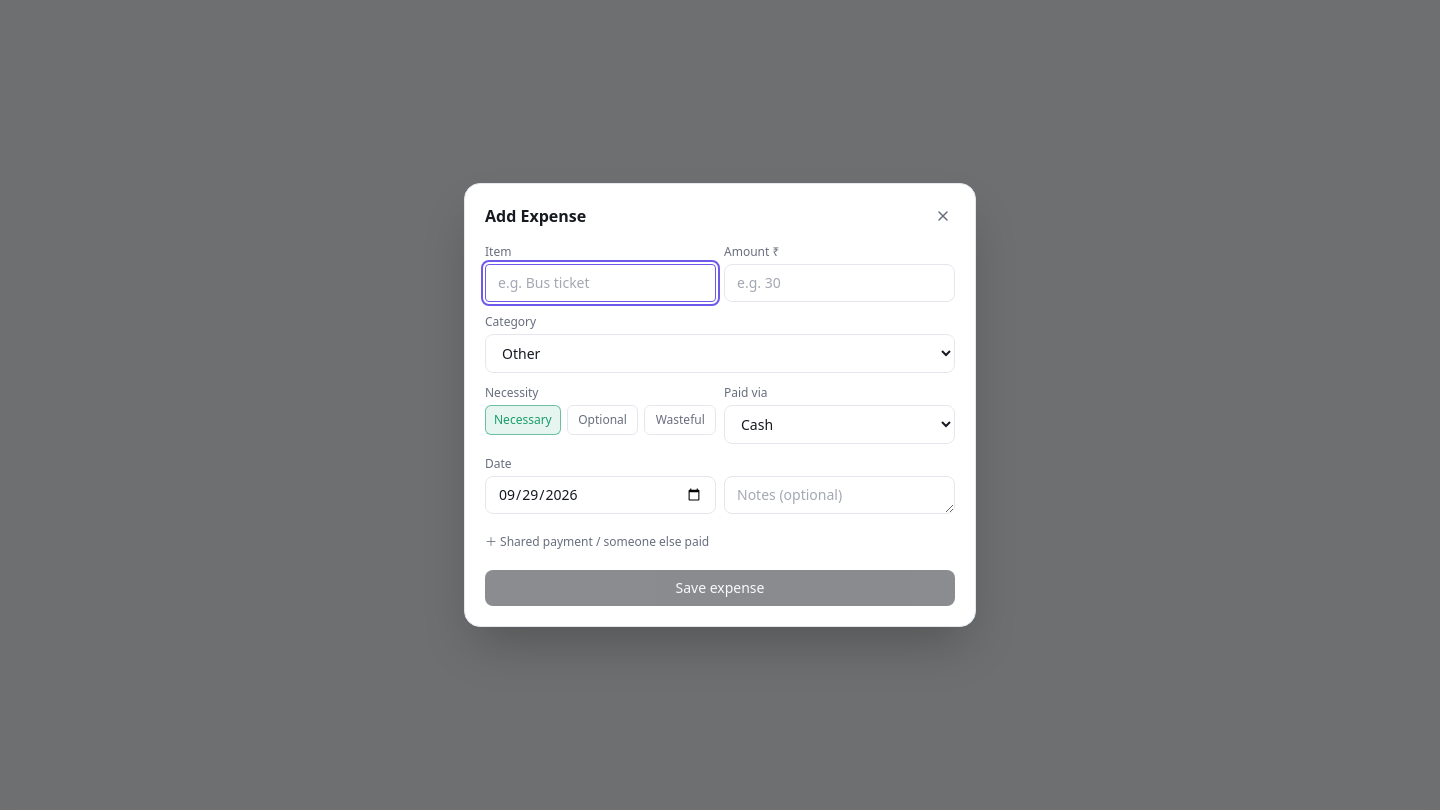
Scenario: arrangement previews › Someone else: live "You owe" preview once a payer is typed
Type "Dinner" into the field labelled "Item".
click(600, 283); type("Dinner")  # box [485,264,716,302]
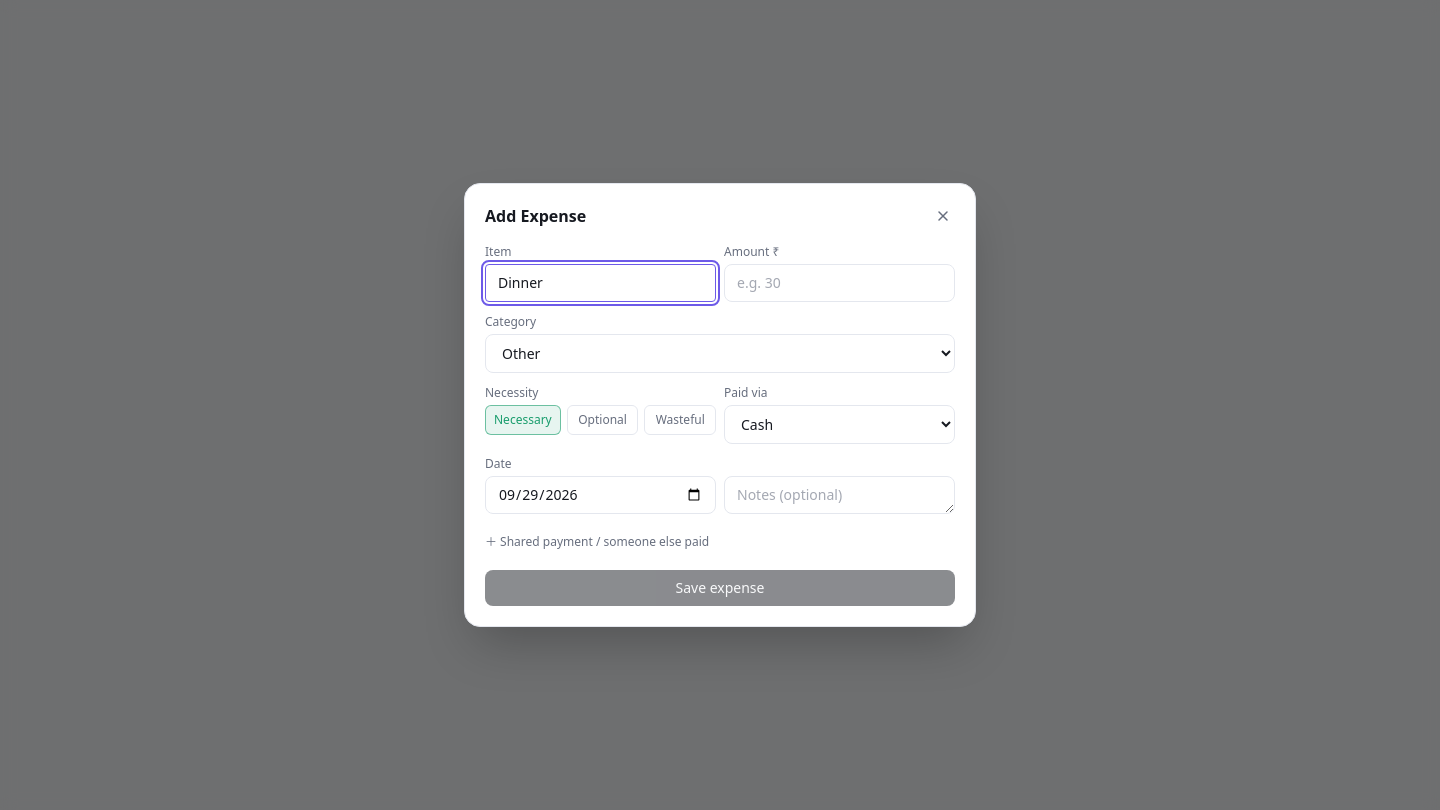
Type "500" into the field labelled "Amount ₹".
click(840, 283); type("500")  # box [724,264,955,302]
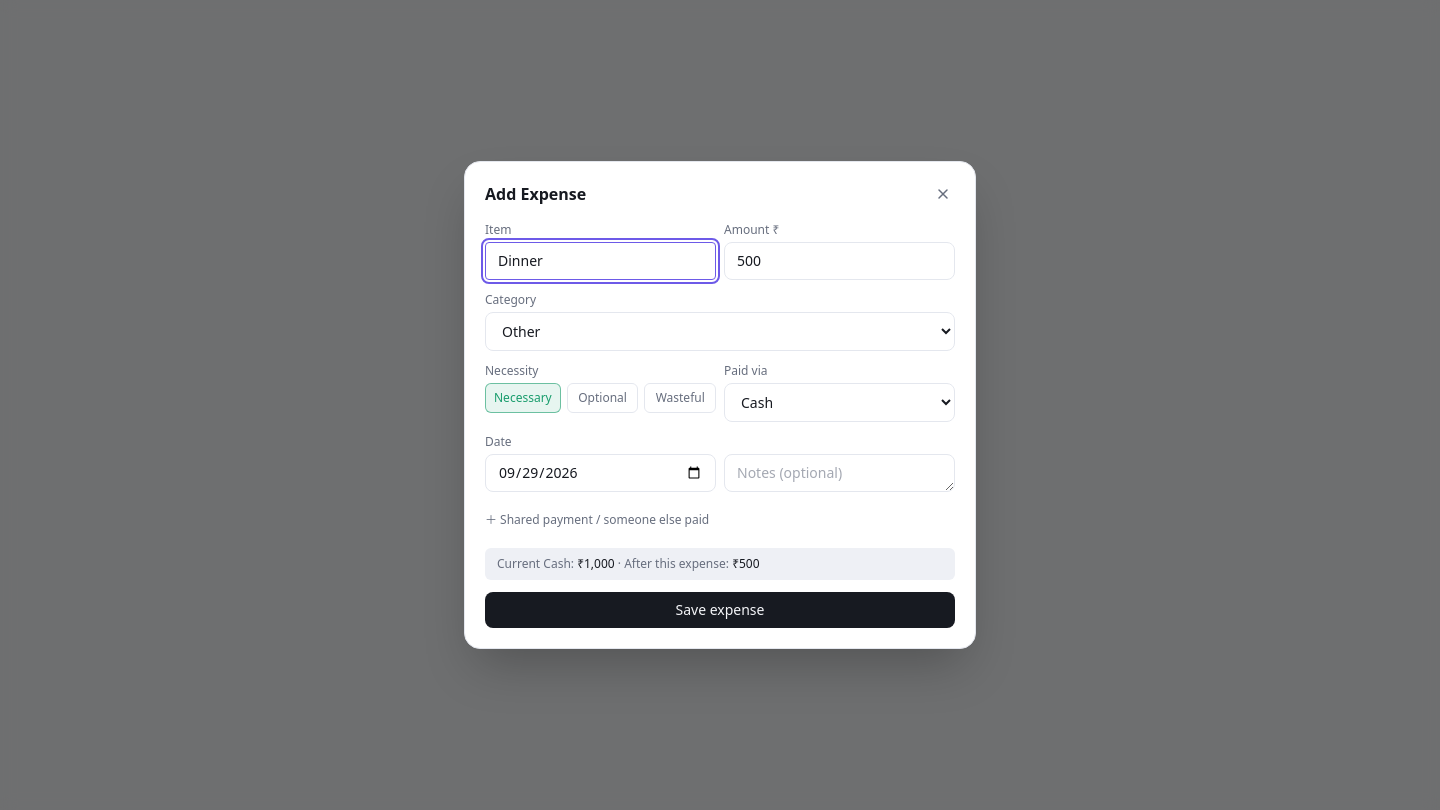
Click the button "＋ Shared payment / someone else paid".
click(597, 520)  # box [485,504,709,536]
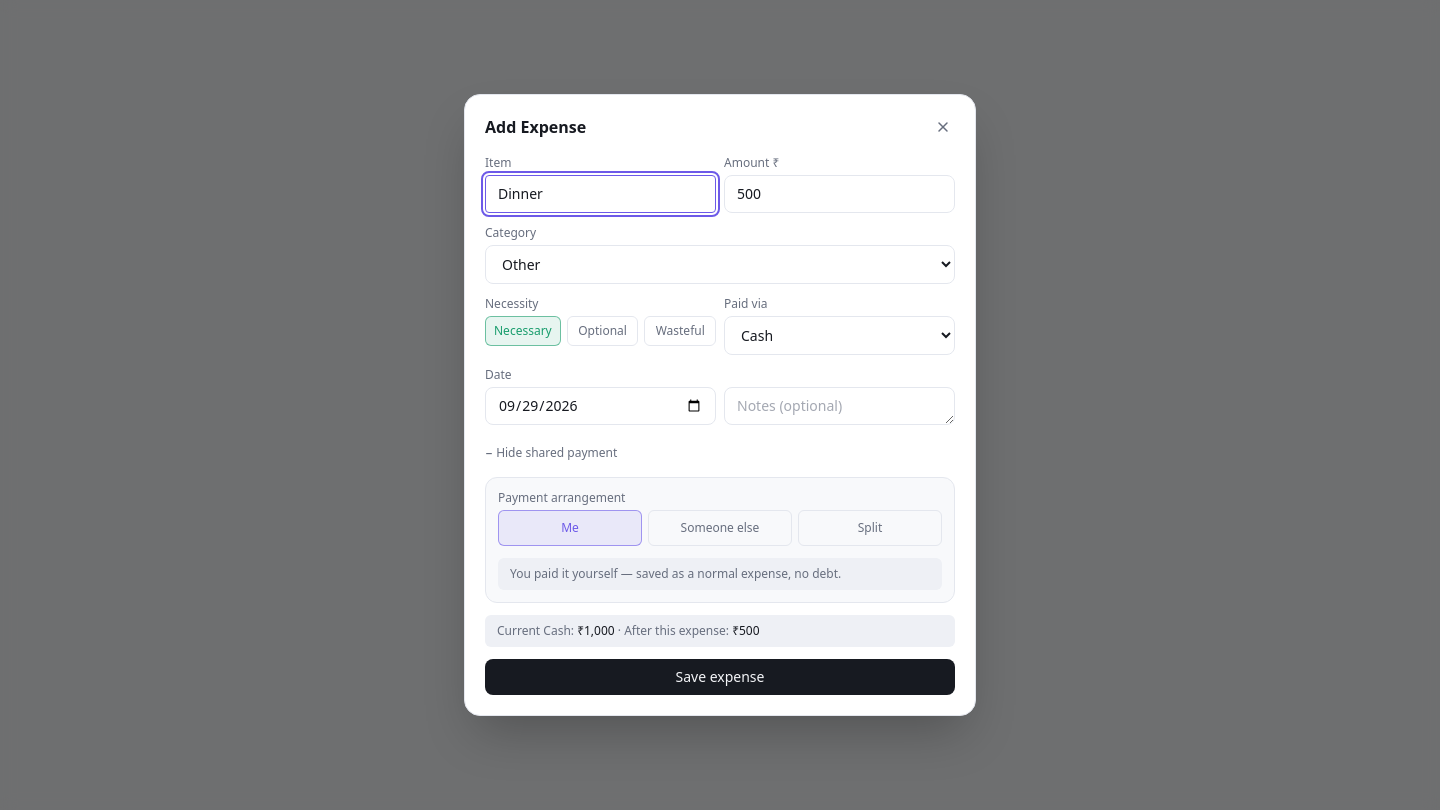
Click the button "Someone else".
click(720, 528)  # box [648,510,792,546]
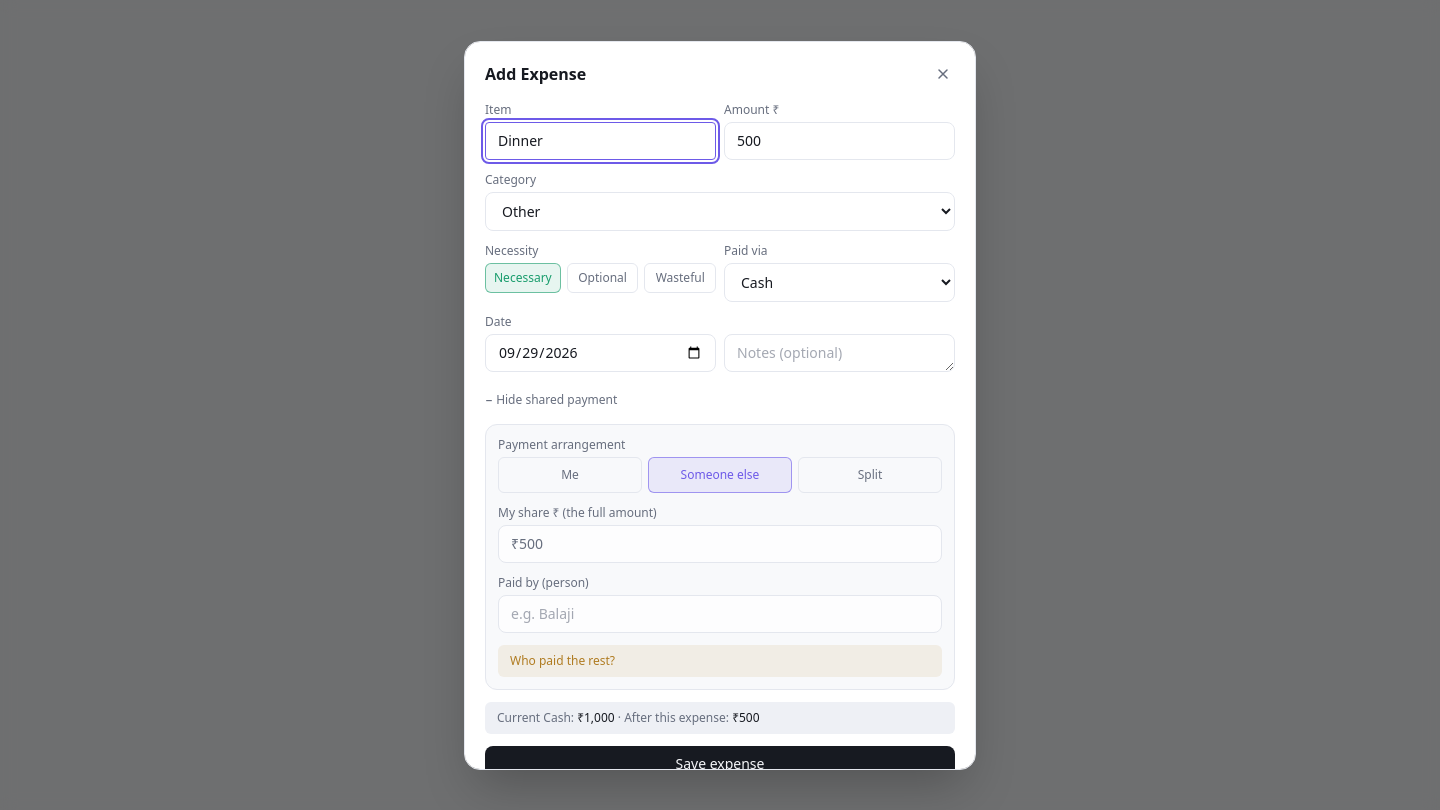
Type "Balaji" into the field labelled "Paid by (person)".
click(720, 614); type("Balaji")  # box [498,594,942,632]
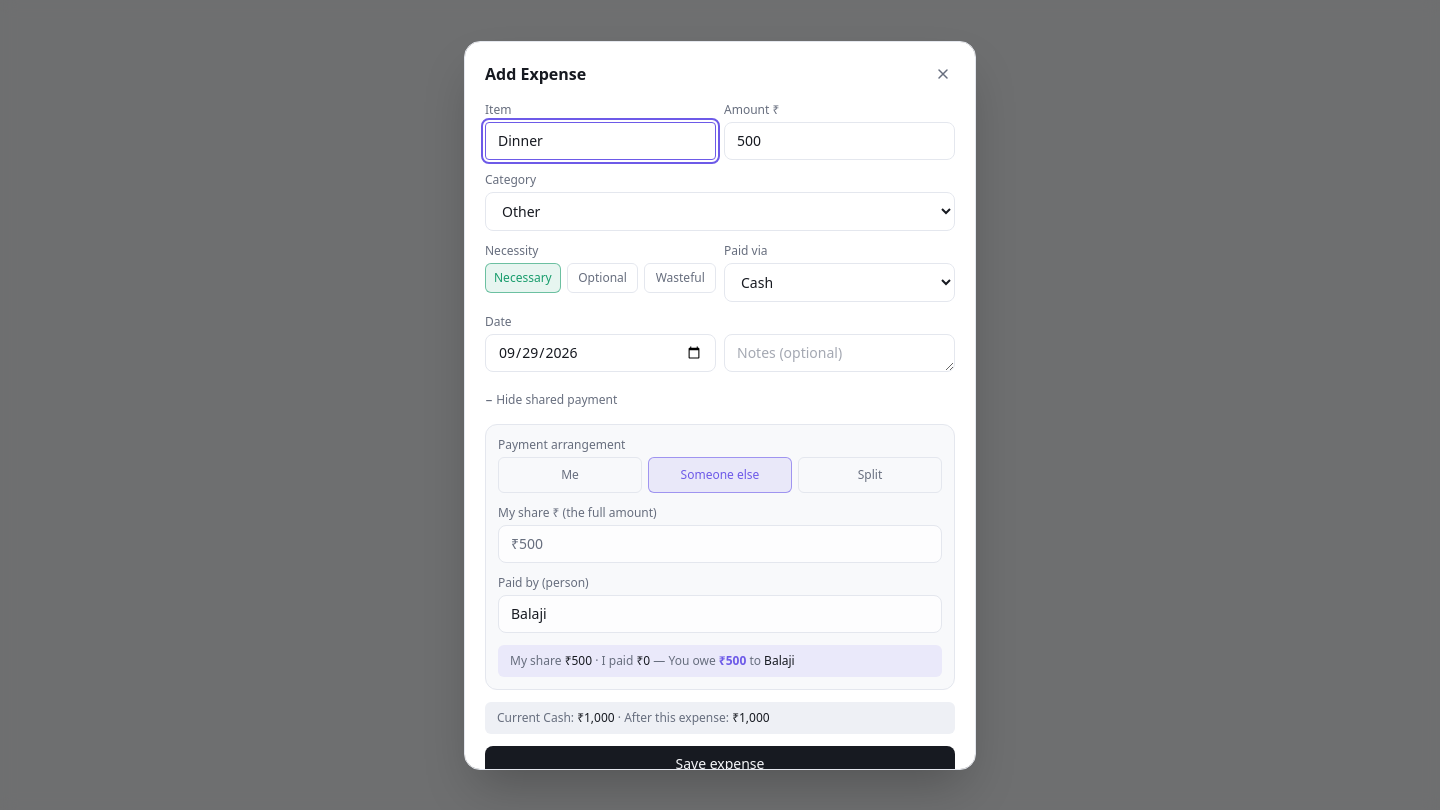
Expected: the text "My share ₹500 · I paid ₹0 — You owe ₹500 to Balaji" is shown, [498,644,942,676]
